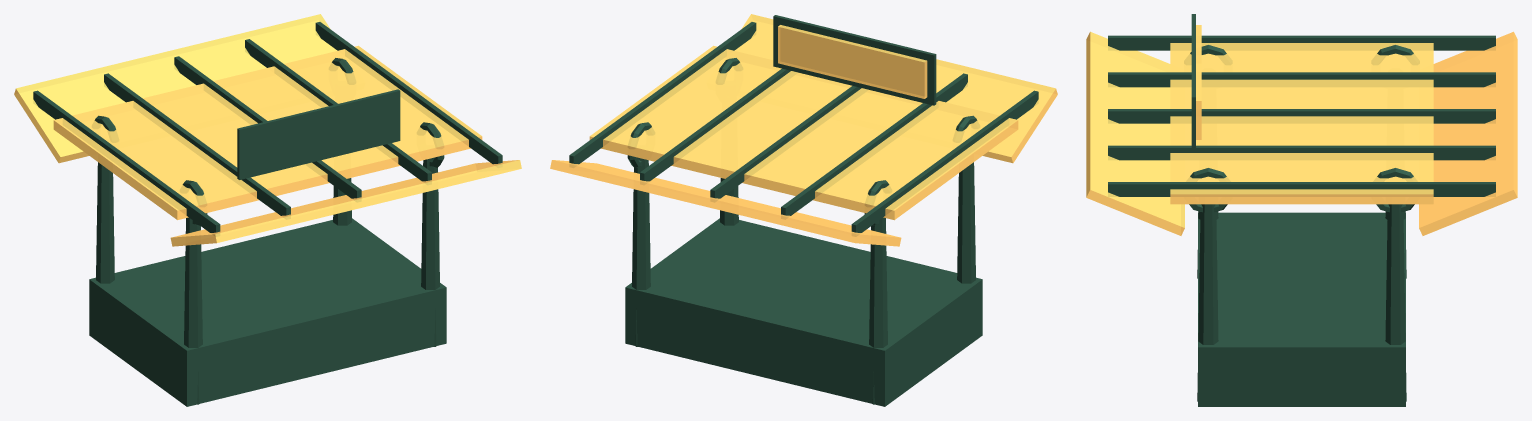
Rendered from guimard_edicule.glb.
The picture shows the model from 3 angles, left to right: view 1: azimuth 30°, elevation 25°; view 2: azimuth 150°, elevation 25°; view 3: azimuth 270°, elevation 25°; orthographic projection. The views are drawn at different scales.
Parts seen in each view (by area): view 1: guimard_edicule; view 2: guimard_edicule; view 3: guimard_edicule.
Boxes of the visible parts, x1,y1,x2,y2 form: guimard_edicule: [14, 14, 521, 406]; guimard_edicule: [550, 14, 1057, 406]; guimard_edicule: [1086, 14, 1517, 406].
Size of the model in its own units: 5.4 by 4.55 by 6.23.
